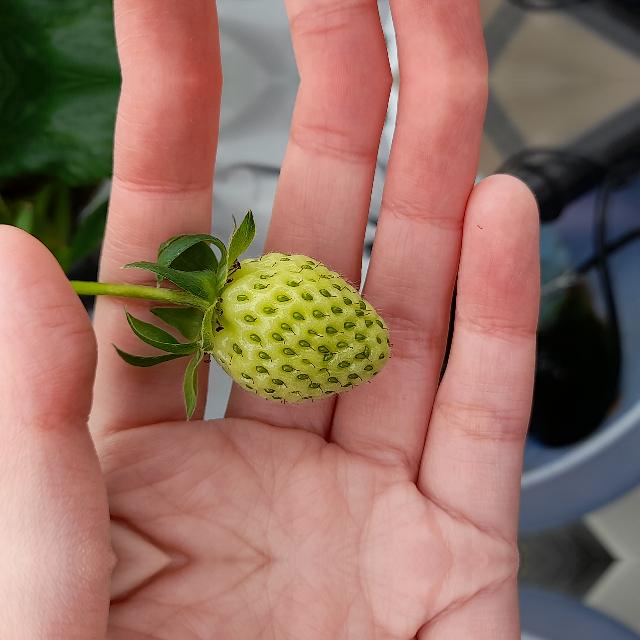Health_25: (212, 252, 390, 402)
